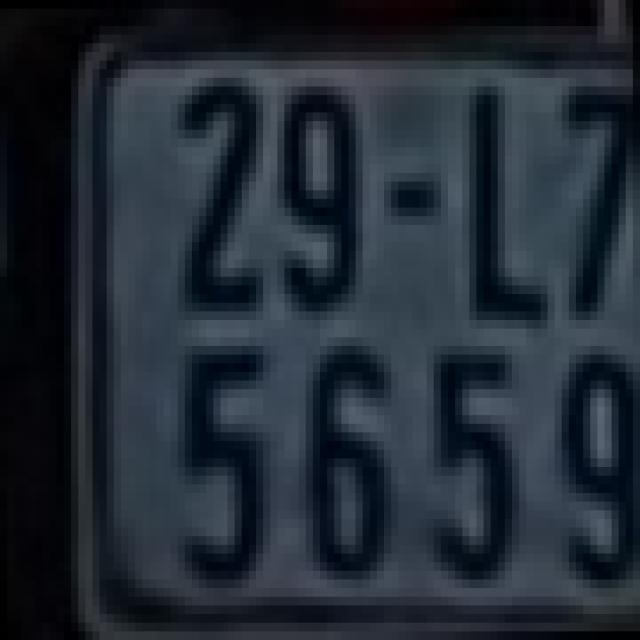2: (178, 78, 263, 311)
5: (178, 346, 270, 579), (434, 346, 519, 579)
6: (306, 346, 391, 571)
7: (562, 86, 633, 312)
9: (277, 86, 363, 312), (562, 354, 640, 580)
L: (462, 86, 548, 320)
